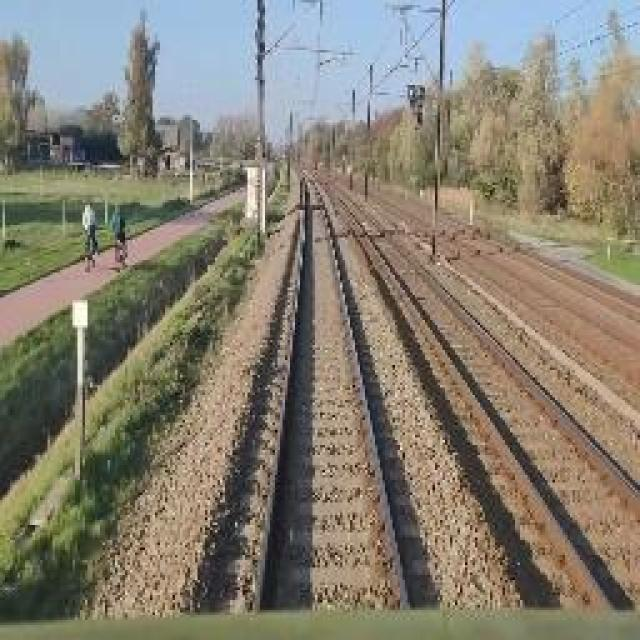rail: (195, 163, 640, 614)
